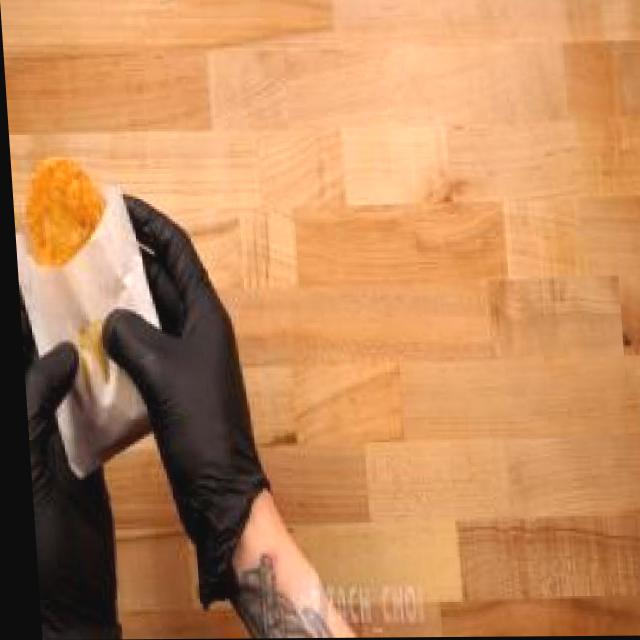Hashbrown: (13, 144, 125, 285)
